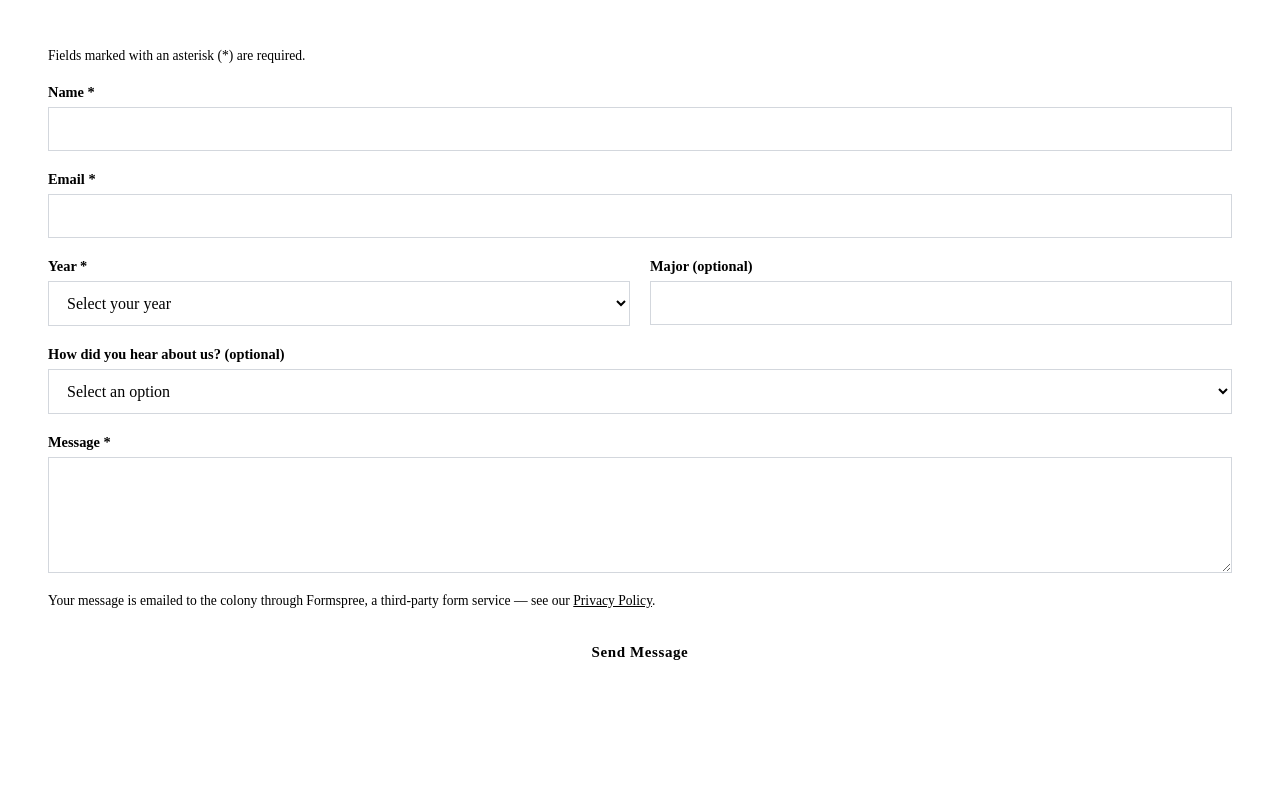
Test case: ContactForm › shows a validation error when submitted with empty fields
Click the button "Send Message" at (640, 652), box [48,629,1232,676]
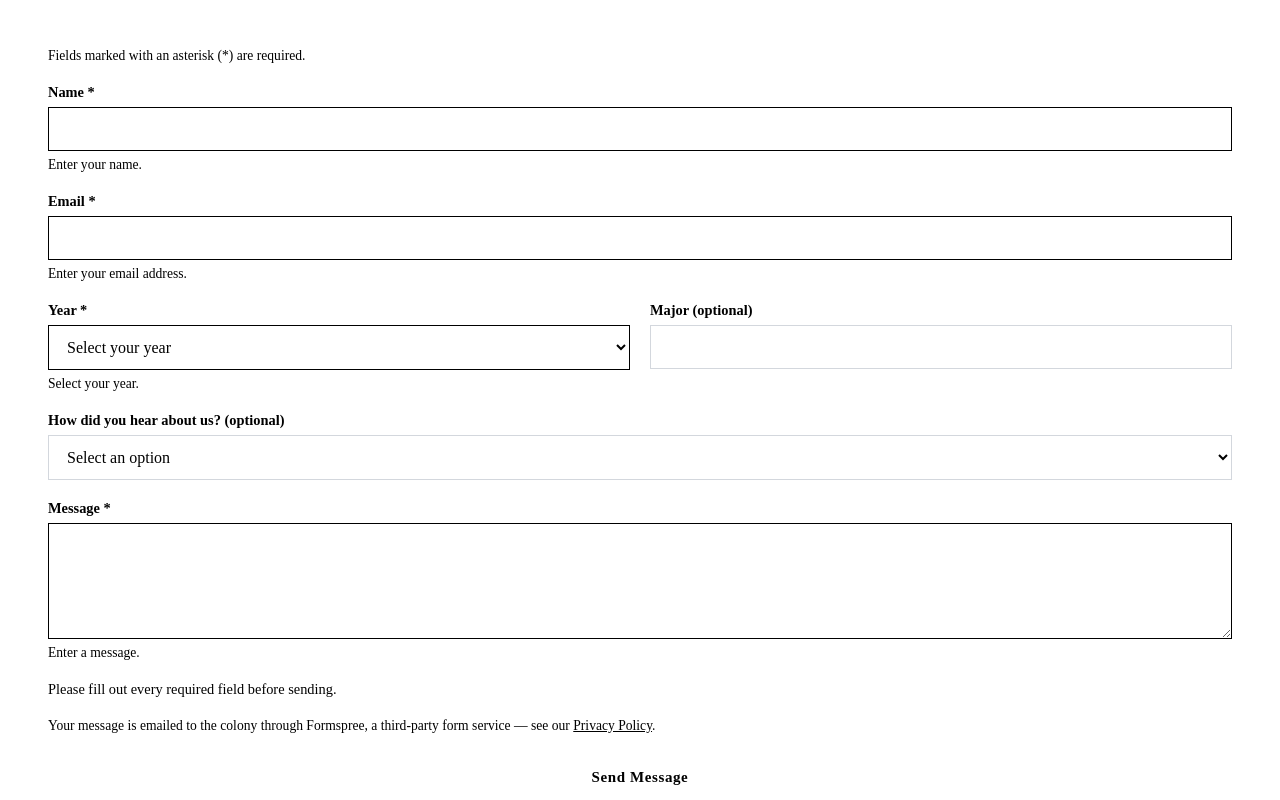
Expected: the message reads "Please fill out every required field before sending.", [48,681,336,697]
